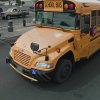Bus: (8, 5, 97, 83)
